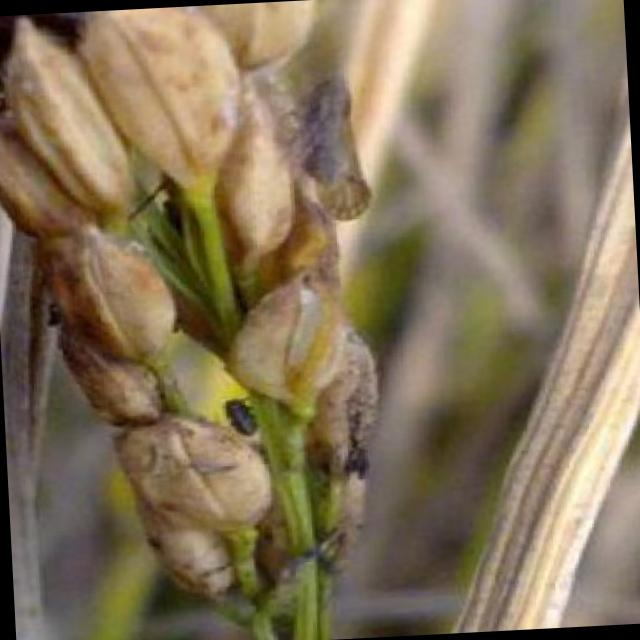brown-planthopper: (290, 62, 380, 225)
